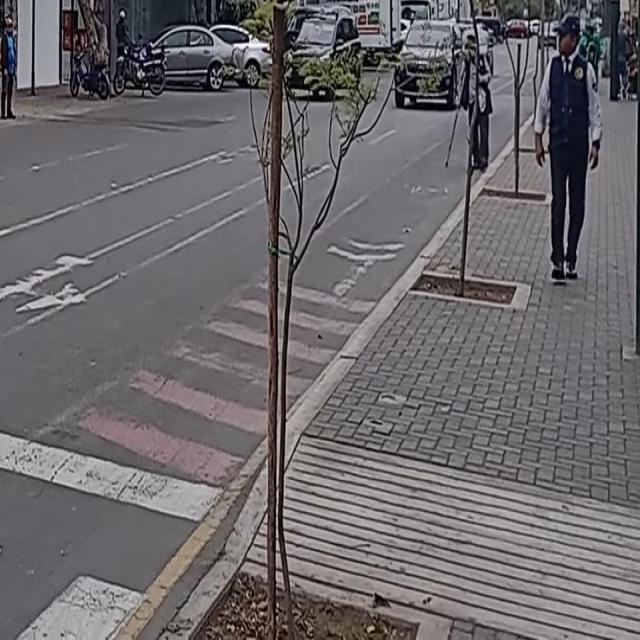car: (283, 3, 363, 98), (391, 14, 468, 111)
